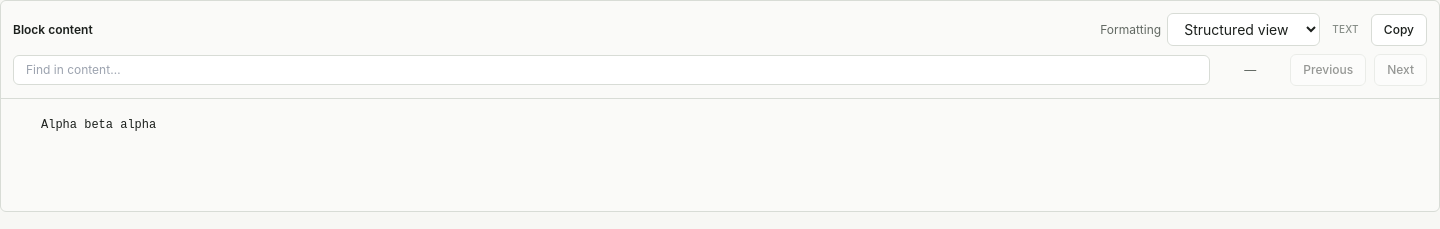
SearchableContentViewer › restores per-token colors on formatted content
Select "Highlight tokens" in the dropdown labelled "Formatting" at (1244, 30), box [1167,13,1320,46]
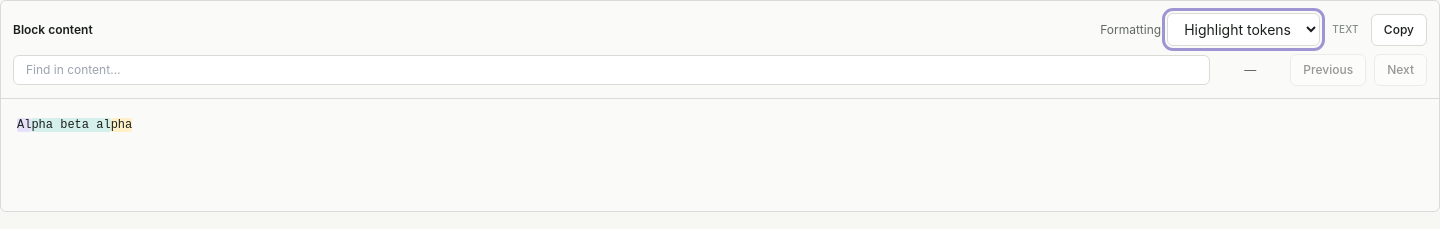
Type "alpha" into the search field named "Search block content" at (612, 70), box [13,55,1210,85]
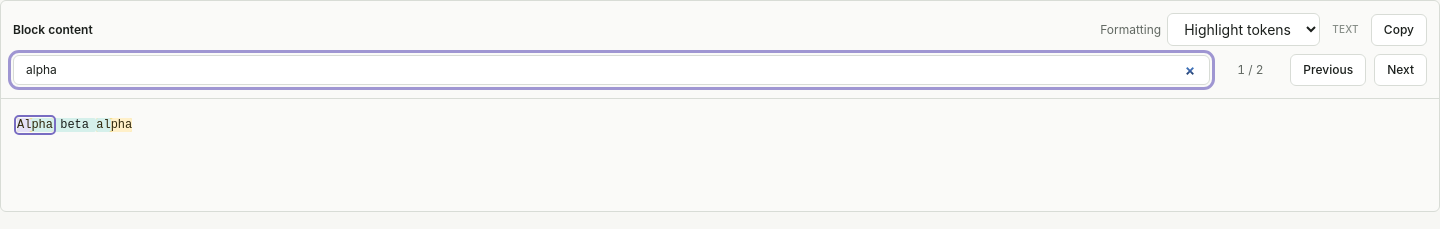
Result: the text "1 / 2" is shown at [1237,62,1264,77]
